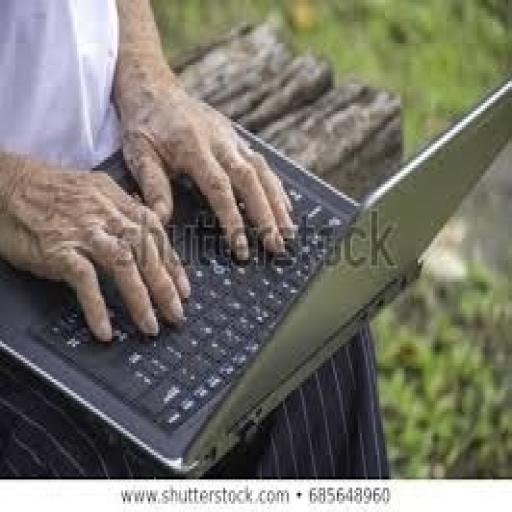using_laptop: (0, 54, 510, 474)
